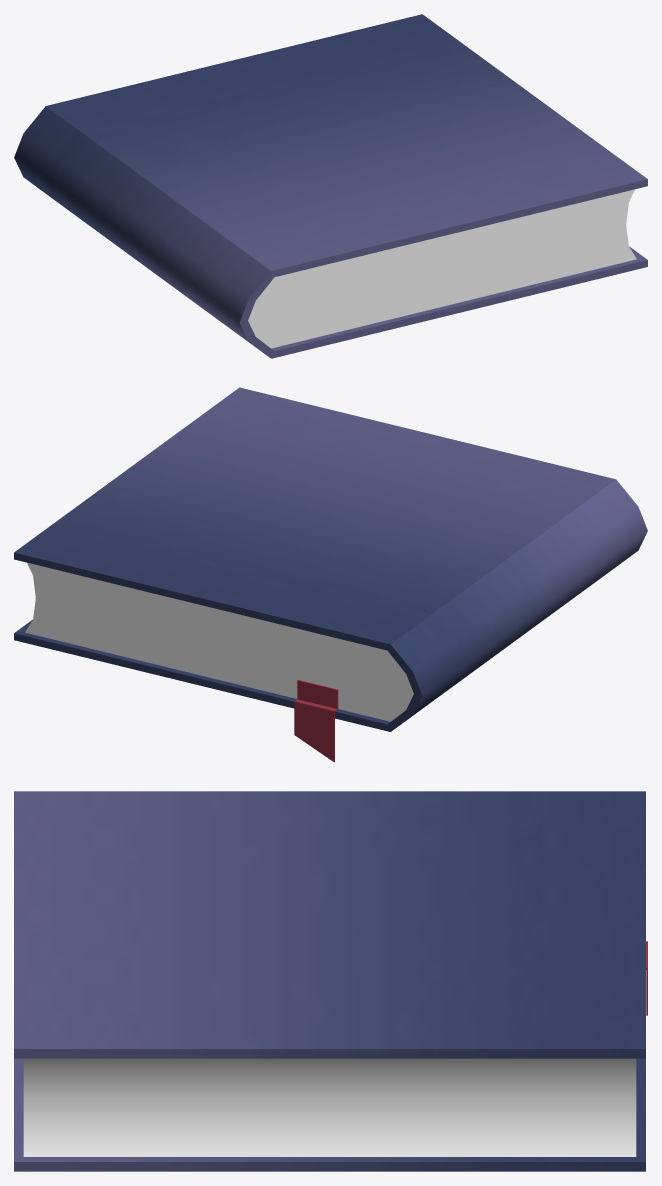
File: book6.fbx
The picture shows the model from 3 angles, top to bottom: view 1: azimuth 30°, elevation 25°; view 2: azimuth 150°, elevation 25°; view 3: azimuth 270°, elevation 25°; orthographic projection. The views are drawn at different scales.
Parts seen in each view (by area): view 1: book6; view 2: book6; view 3: book6.
Boxes of the visible parts, x1=… form: book6: x1=14, y1=14, x2=647, y2=358; book6: x1=14, y1=387, x2=647, y2=762; book6: x1=14, y1=791, x2=647, y2=1171.
Bounding box in the file's own units: 25.86 × 7.94 × 24.81.
